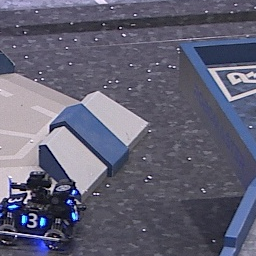Blue: (19, 213, 47, 230), (5, 191, 26, 210)
Robot: (1, 172, 83, 251)
